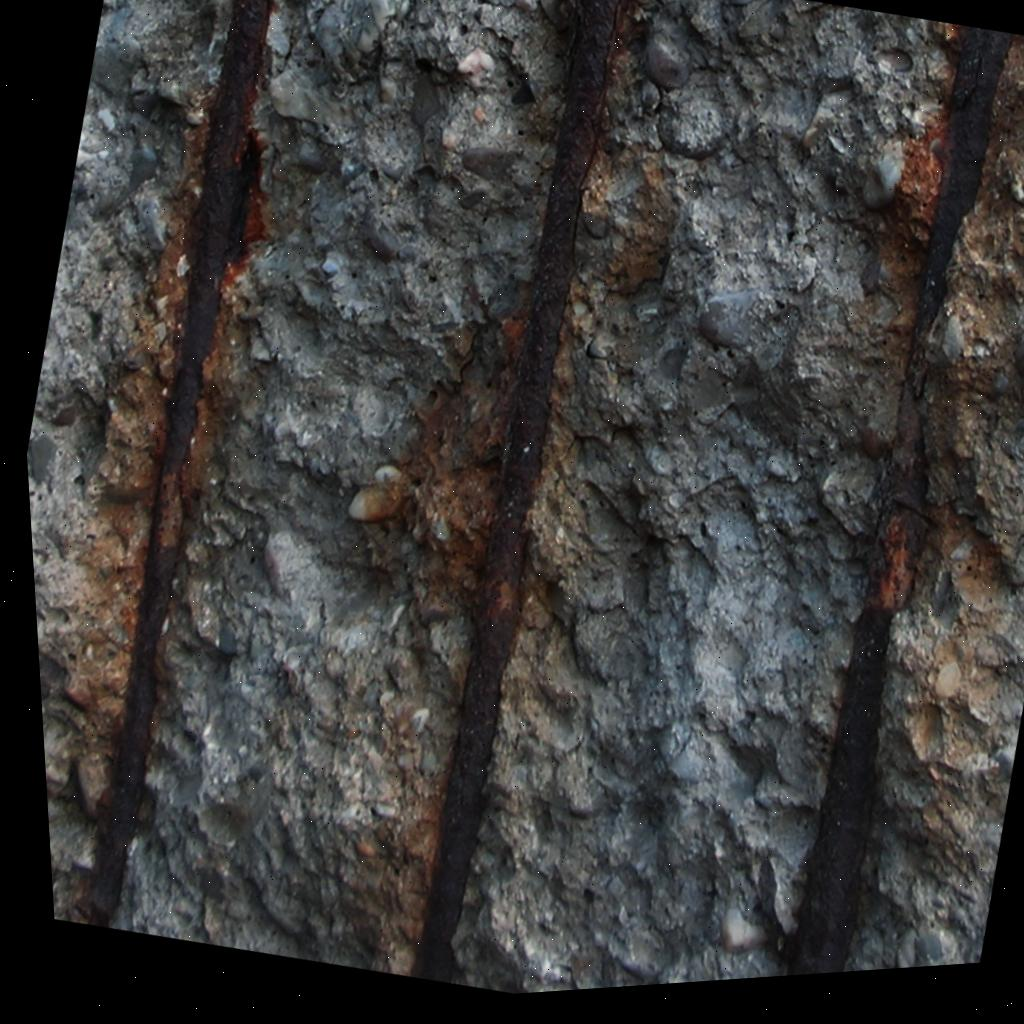exposed_rebar: (787, 26, 1010, 976), (411, 0, 619, 982), (92, 0, 272, 927)
spalling: (27, 0, 1024, 994)
